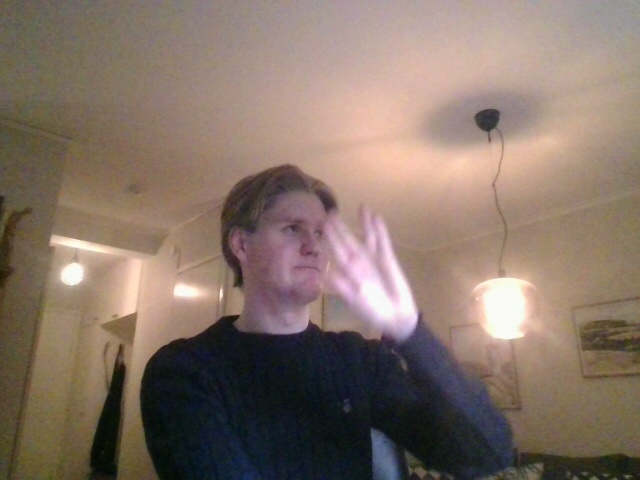LiveLong: (321, 202, 416, 330)
